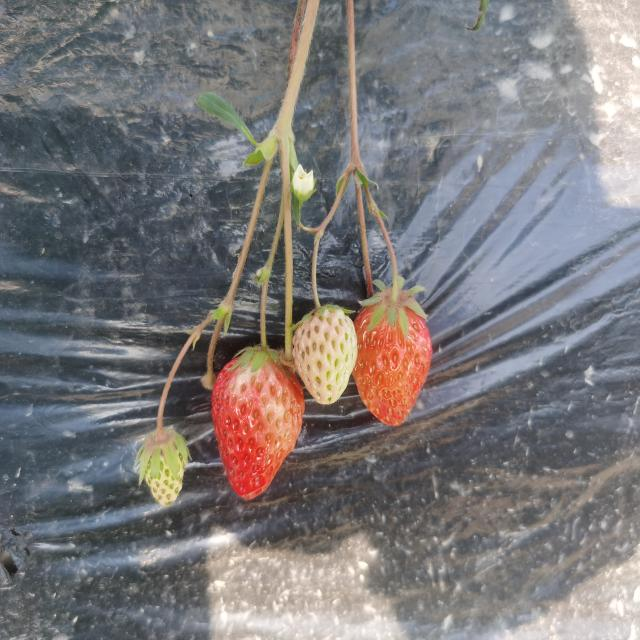stem: (388, 243, 398, 305), (260, 292, 267, 353)
strawberry: (211, 348, 305, 500), (352, 288, 432, 425)
